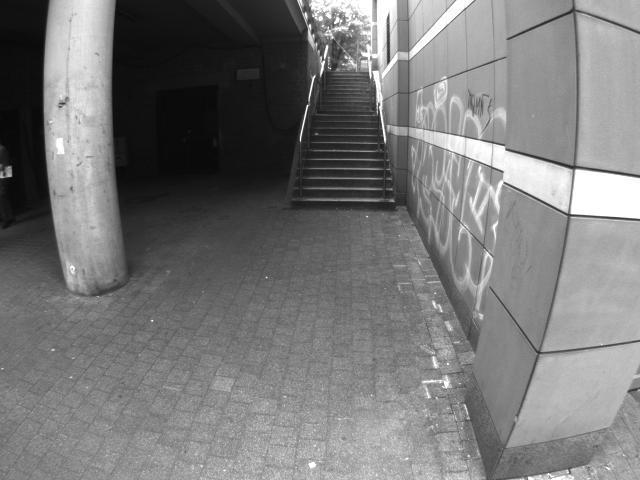Escaleras: (285, 111, 401, 206), (305, 68, 383, 114)
